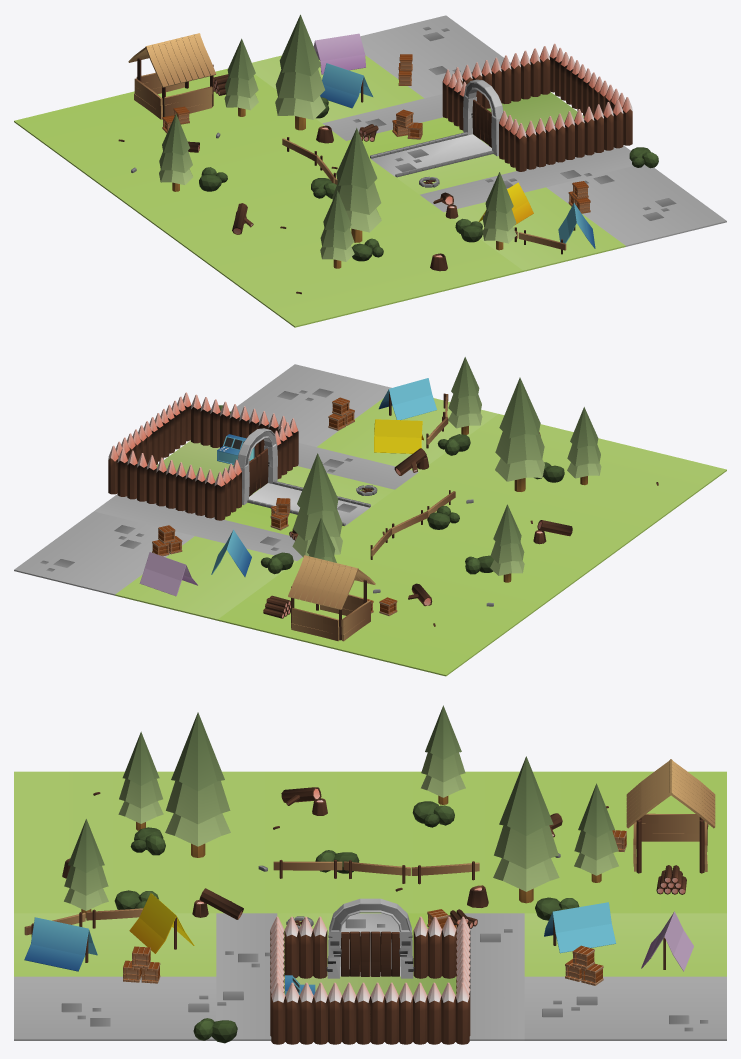
File: Map V2.fbx
The picture shows the model from 3 angles, top to bottom: view 1: azimuth 30°, elevation 25°; view 2: azimuth 150°, elevation 25°; view 3: azimuth 270°, elevation 25°; orthographic projection. The views are drawn at different scales.
Parts seen in each view (by area): view 1: Cube.037, Cube.018, Cylinder, Cube.017, Cube.016, Cube.005, Cylinder.001, Cylinder.027, Cylinder.008, Cube.082, Cylinder.009, Cylinder.012 (+14 smaller); view 2: Cube.037, Cube.018, Cube.017, Cylinder, Cube.016, Cube.005, Cylinder.008, Cylinder.027, Cylinder.001, Cube.082, Cylinder.010, Cylinder.011 (+14 smaller); view 3: Cube.037, Cube.018, Cube.017, Cube.016, Cylinder.027, Cylinder.001, Cylinder.008, Cylinder.007, Cube.082, Cube.002, Plane.003, Cylinder.012 (+18 smaller).
Boxes of the visible parts, x1,y1,x2,y2 form: Cube.037: (14,68,523,327); Cube.018: (360,15,726,246); Cylinder: (442,46,623,171); Cube.017: (252,55,625,271); Cube.016: (322,94,632,212); Cube.005: (346,117,516,194); Cylinder.001: (275,14,325,130); Cylinder.027: (549,43,632,145); Cylinder.008: (332,128,381,242); Cube.082: (128,33,215,87); Cylinder.009: (320,190,354,268); Cylinder.012: (224,38,258,116); Cube.037: (217,414,726,676); Cube.018: (14,364,391,595); Cube.017: (115,398,498,620); Cylinder: (117,394,298,520); Cube.016: (94,443,418,560); Cube.005: (224,466,394,535); Cylinder.008: (495,377,544,491); Cylinder.027: (108,392,191,494); Cylinder.001: (292,453,342,557); Cube.082: (288,555,375,609); Cylinder.010: (490,504,524,582); Cylinder.011: (448,357,482,434); Cube.037: (14,771,726,913); Cube.018: (14,976,726,1040); Cube.017: (14,913,726,976); Cube.016: (216,913,524,1040); Cylinder.027: (271,982,469,1044); Cylinder.001: (493,756,559,903); Cylinder.008: (165,712,230,857); Cylinder.007: (284,916,456,978); Cube.082: (626,759,715,828); Cube.002: (341,931,399,976); Plane.003: (24,917,97,971); Cylinder.012: (574,783,618,882).
Size of the model in its own units: 3473 by 885 by 3828.
